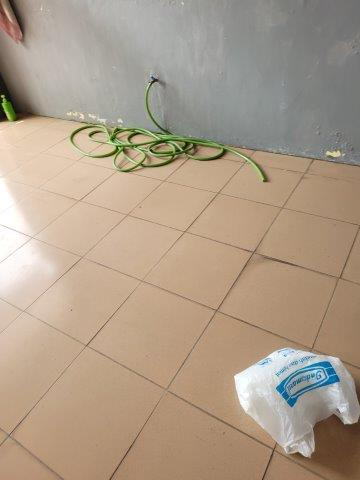plastik: (231, 345, 360, 447)
